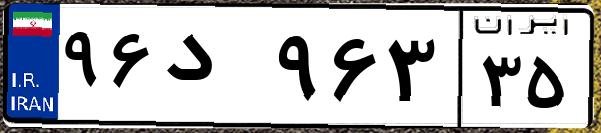3: (385, 28, 445, 110), (475, 38, 525, 113)
5: (525, 38, 570, 115)
6: (330, 28, 385, 110), (110, 28, 158, 98)
9: (270, 28, 330, 110), (57, 26, 110, 100)
د: (158, 20, 270, 120)
